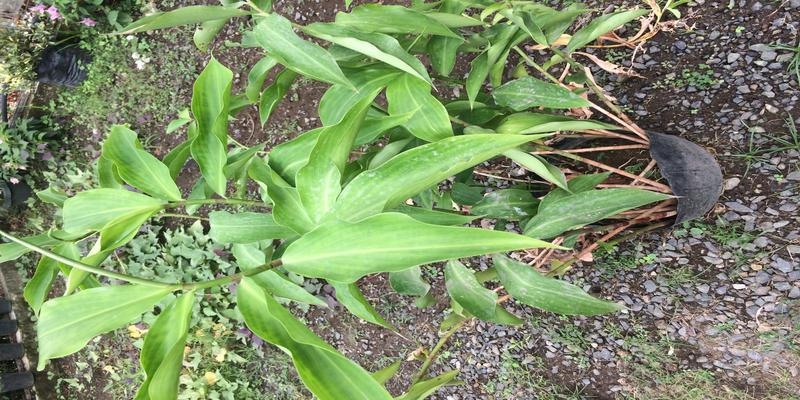Insulin: (196, 76, 662, 274)
